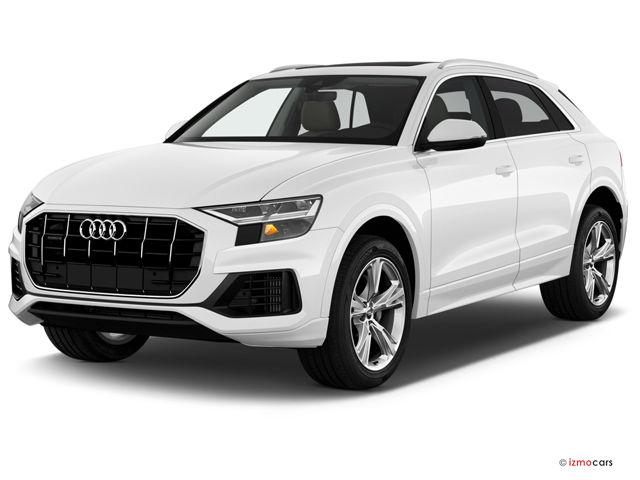audi: (7, 58, 630, 392)
